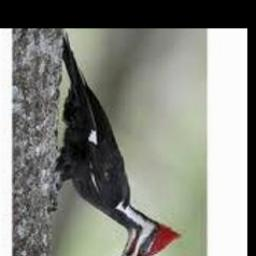Woodpecker: (55, 34, 183, 256)
